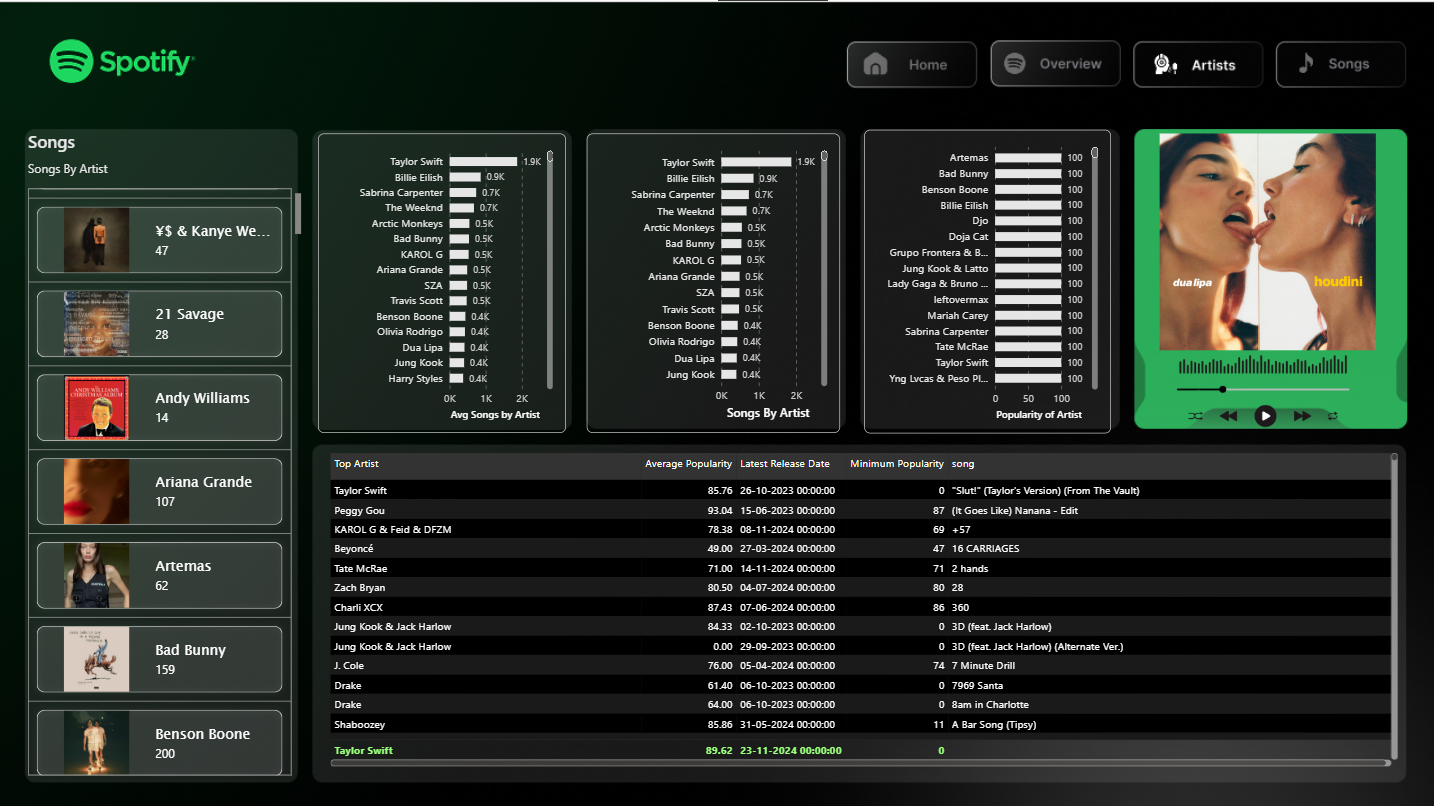

What the dashboard file says about the page in this screenshot:
{"tool":"powerbi","page":{"name":"Artist","canvas":[1920,1080],"ordinal":2},"visuals":[{"type":"image","box":[0,0,1920.1,1080.4],"z":0},{"type":"actionButton","box":[1328.3,50.7,168.3,57.9],"z":1000},{"type":"actionButton","box":[1140.1,50.7,168.3,57.9],"z":2000},{"type":"actionButton","box":[1717.4,50.7,168.3,57.9],"z":3000},{"type":"image","box":[1505.6,177.3,380,289.5],"z":4000},{"type":"image","box":[1540,389.1,300.4,264.2],"z":5000},{"type":"clusteredBarChart","fields":{"Category":["Top-50-World.artist"],"Y":["CountNonNull(Top-50-World.song)"]},"box":[787.2,177.3,338.4,399.9],"z":6000},{"type":"advancedSlicerVisual","title":"Songs","fields":{"Values":["Top-50-World.artist"],"Label":["_Measures.Top 10 Songs"]},"box":[39.8,171.9,365.6,866.8],"z":7000},{"type":"clusteredBarChart","fields":{"Category":["Top-50-World.artist"],"Y":["_Measures.Maximum Popularity"]},"box":[1156.4,171.9,329.4,405.4],"z":8000},{"type":"clusteredBarChart","fields":{"Category":["Top-50-World.artist"],"Y":["_Measures.Average Songs Per Artist"]},"box":[427.1,177.3,331.2,399.9],"z":9000},{"type":"tableEx","fields":{"Values":["_Measures.Top Artist","_Measures.Average Popularity","_Measures.Latest Release Date","_Measures.Minimum Popularity","Top-50-World.song"]},"box":[427.1,589.9,1458.6,448.8],"z":10000}]}

Visuals, with their boxes in screenshot pixels (x1, y1, x2, y2), scaled from the page's 1920x1080 canvas onto the 1434x806 screenshot:
image: (x1=0, y1=0, x2=1433, y2=805)
actionButton: (x1=992, y1=38, x2=1118, y2=81)
actionButton: (x1=852, y1=38, x2=977, y2=81)
actionButton: (x1=1283, y1=38, x2=1408, y2=81)
image: (x1=1124, y1=132, x2=1408, y2=348)
image: (x1=1150, y1=290, x2=1375, y2=488)
clusteredBarChart - Top-50-World.artist x CountNonNull(Top-50-World.song): (x1=588, y1=132, x2=841, y2=431)
"Songs" advancedSlicerVisual: (x1=30, y1=128, x2=303, y2=775)
clusteredBarChart - Top-50-World.artist x _Measures.Maximum Popularity: (x1=864, y1=128, x2=1110, y2=431)
clusteredBarChart - Top-50-World.artist x _Measures.Average Songs Per Artist: (x1=319, y1=132, x2=566, y2=431)
tableEx - _Measures.Top Artist x _Measures.Average Popularity: (x1=319, y1=440, x2=1408, y2=775)
